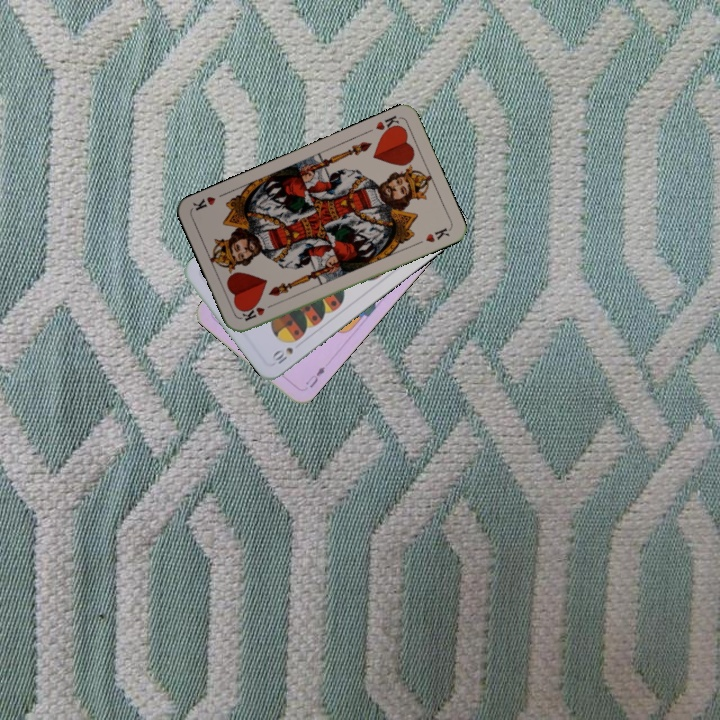EU: (301, 362, 328, 391)
HK: (238, 299, 277, 324), (372, 111, 404, 137)
S10: (268, 343, 296, 367)
